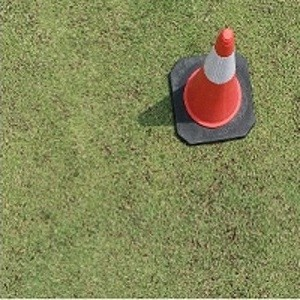traffic cone: (169, 27, 257, 146)
